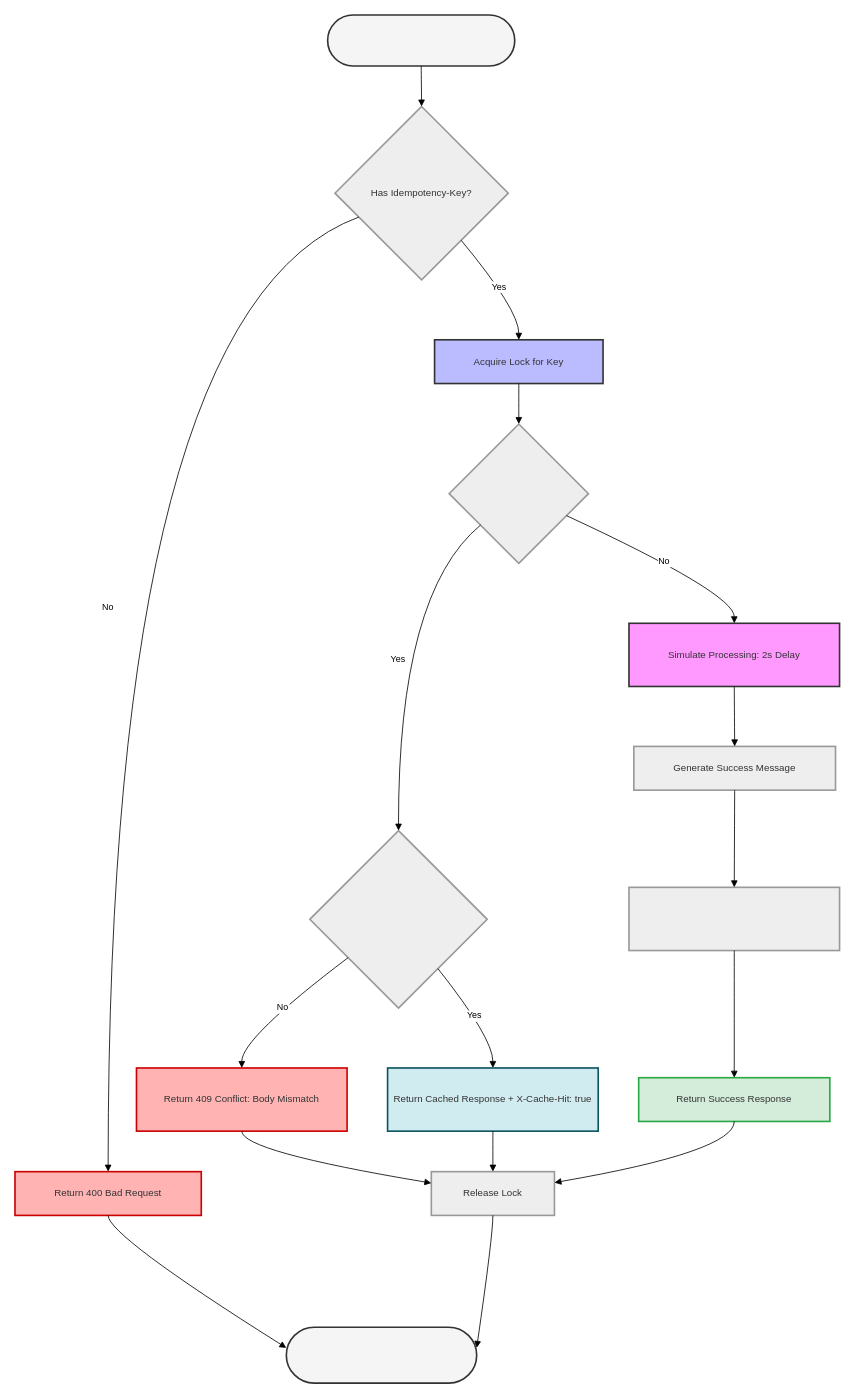
The diagram is 854 pixels wide and 1397 high, and some of its shapes have lost their labels. The shapes that lost their labels are listed below. From the top down, each one's centre as x and y in pixels, then its label:
At [420,40]: "Start: POST /process-payment".
At [518,493]: "Key exists in DB?".
At [398,918]: "Request Body Matches?".
At [734,918]: "Save Key, Body, and Response to DB".
At [381,1354]: "End".
